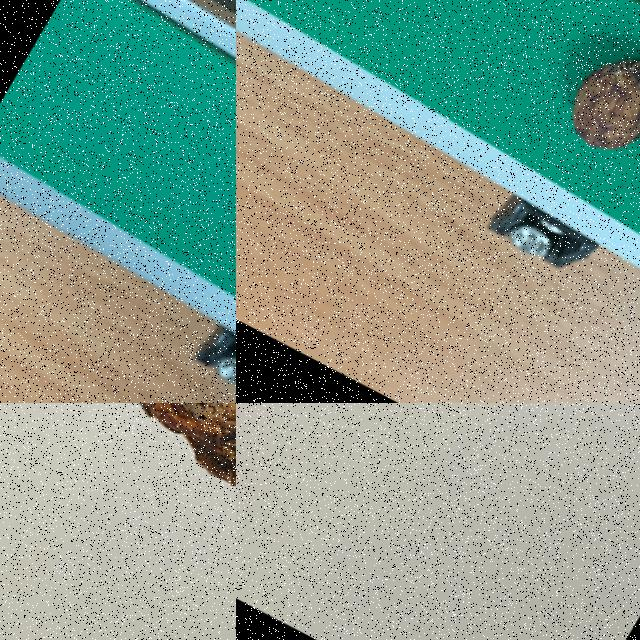Agglomerated_cocoabeans: (0, 403, 235, 599)
Fine_cocoabeans: (489, 0, 639, 243)
